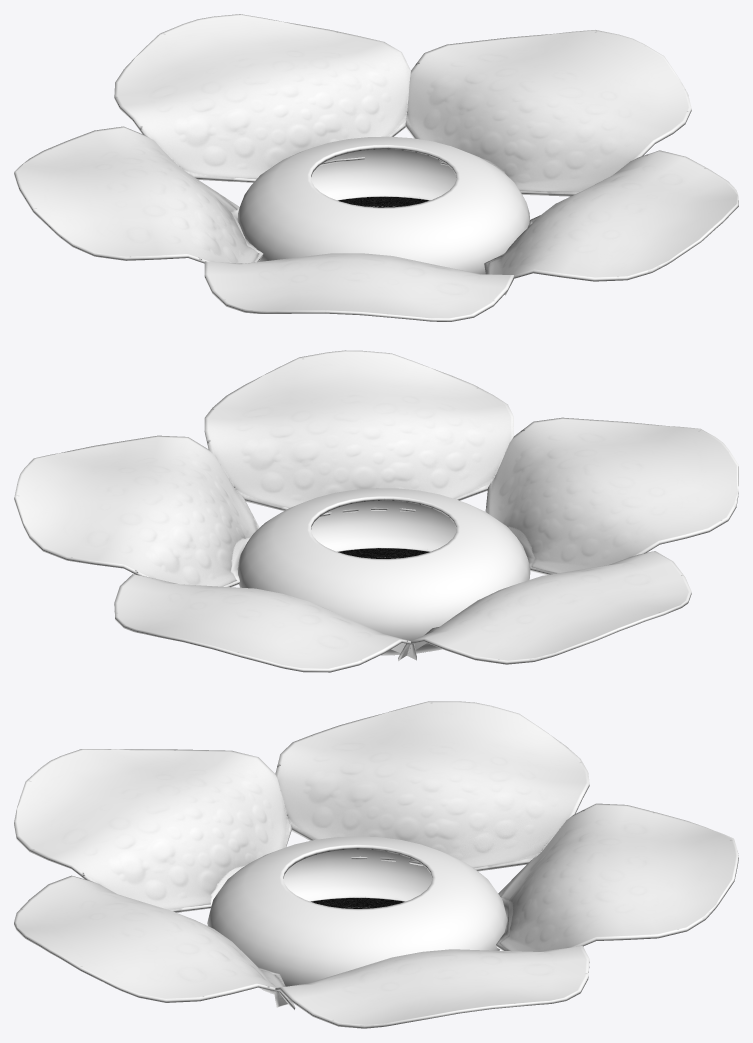
File: Big_Flower.fbx
The picture shows the model from 3 angles, top to bottom: view 1: azimuth 30°, elevation 25°; view 2: azimuth 150°, elevation 25°; view 3: azimuth 270°, elevation 25°; orthographic projection. The views are drawn at different scales.
Parts seen in each view (by area): view 1: Big_Flower; view 2: Big_Flower; view 3: Big_Flower.
Boxes of the visible parts, x1,y1,x2,y2 form: Big_Flower: [14, 14, 738, 321]; Big_Flower: [14, 350, 738, 672]; Big_Flower: [14, 701, 738, 1028].
Bounding box in the file's own units: 124 × 17.78 × 120.
